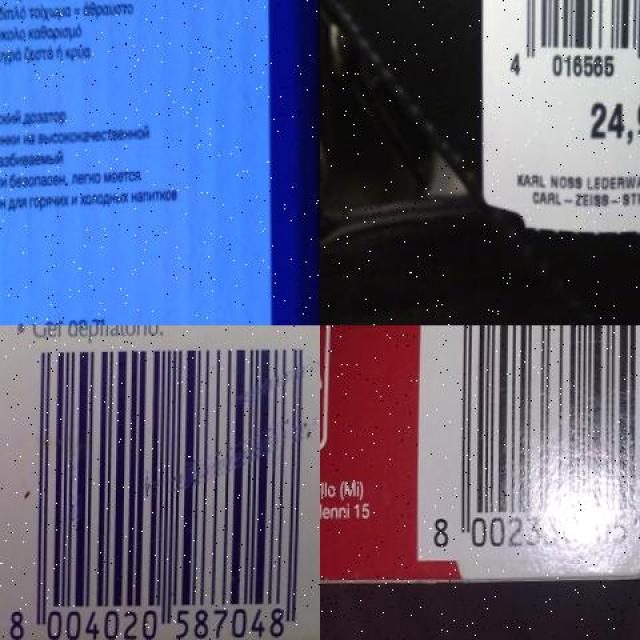Barcode: (0, 336, 320, 640), (412, 325, 640, 559), (494, 0, 640, 96)
